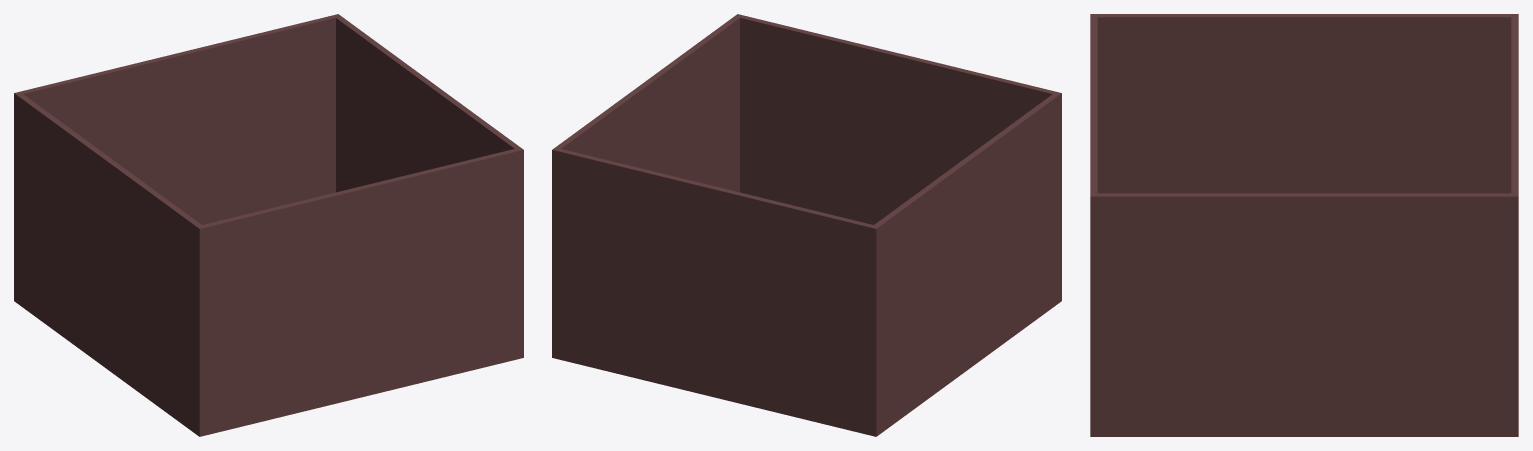
3 renders of one model, left to right at view 1: azimuth 30°, elevation 25°; view 2: azimuth 150°, elevation 25°; view 3: azimuth 270°, elevation 25°, orthographic. The views are drawn at different scales.
Parts seen in each view (by area): view 1: polySurface89; view 2: polySurface89; view 3: polySurface89.
Boxes of the visible parts, box(x1,y1,x2,y2) form: polySurface89: box(14, 14, 523, 436); polySurface89: box(552, 14, 1061, 436); polySurface89: box(1090, 14, 1518, 436).
Size of the model in its own units: 62.71 by 38.44 by 62.16.
